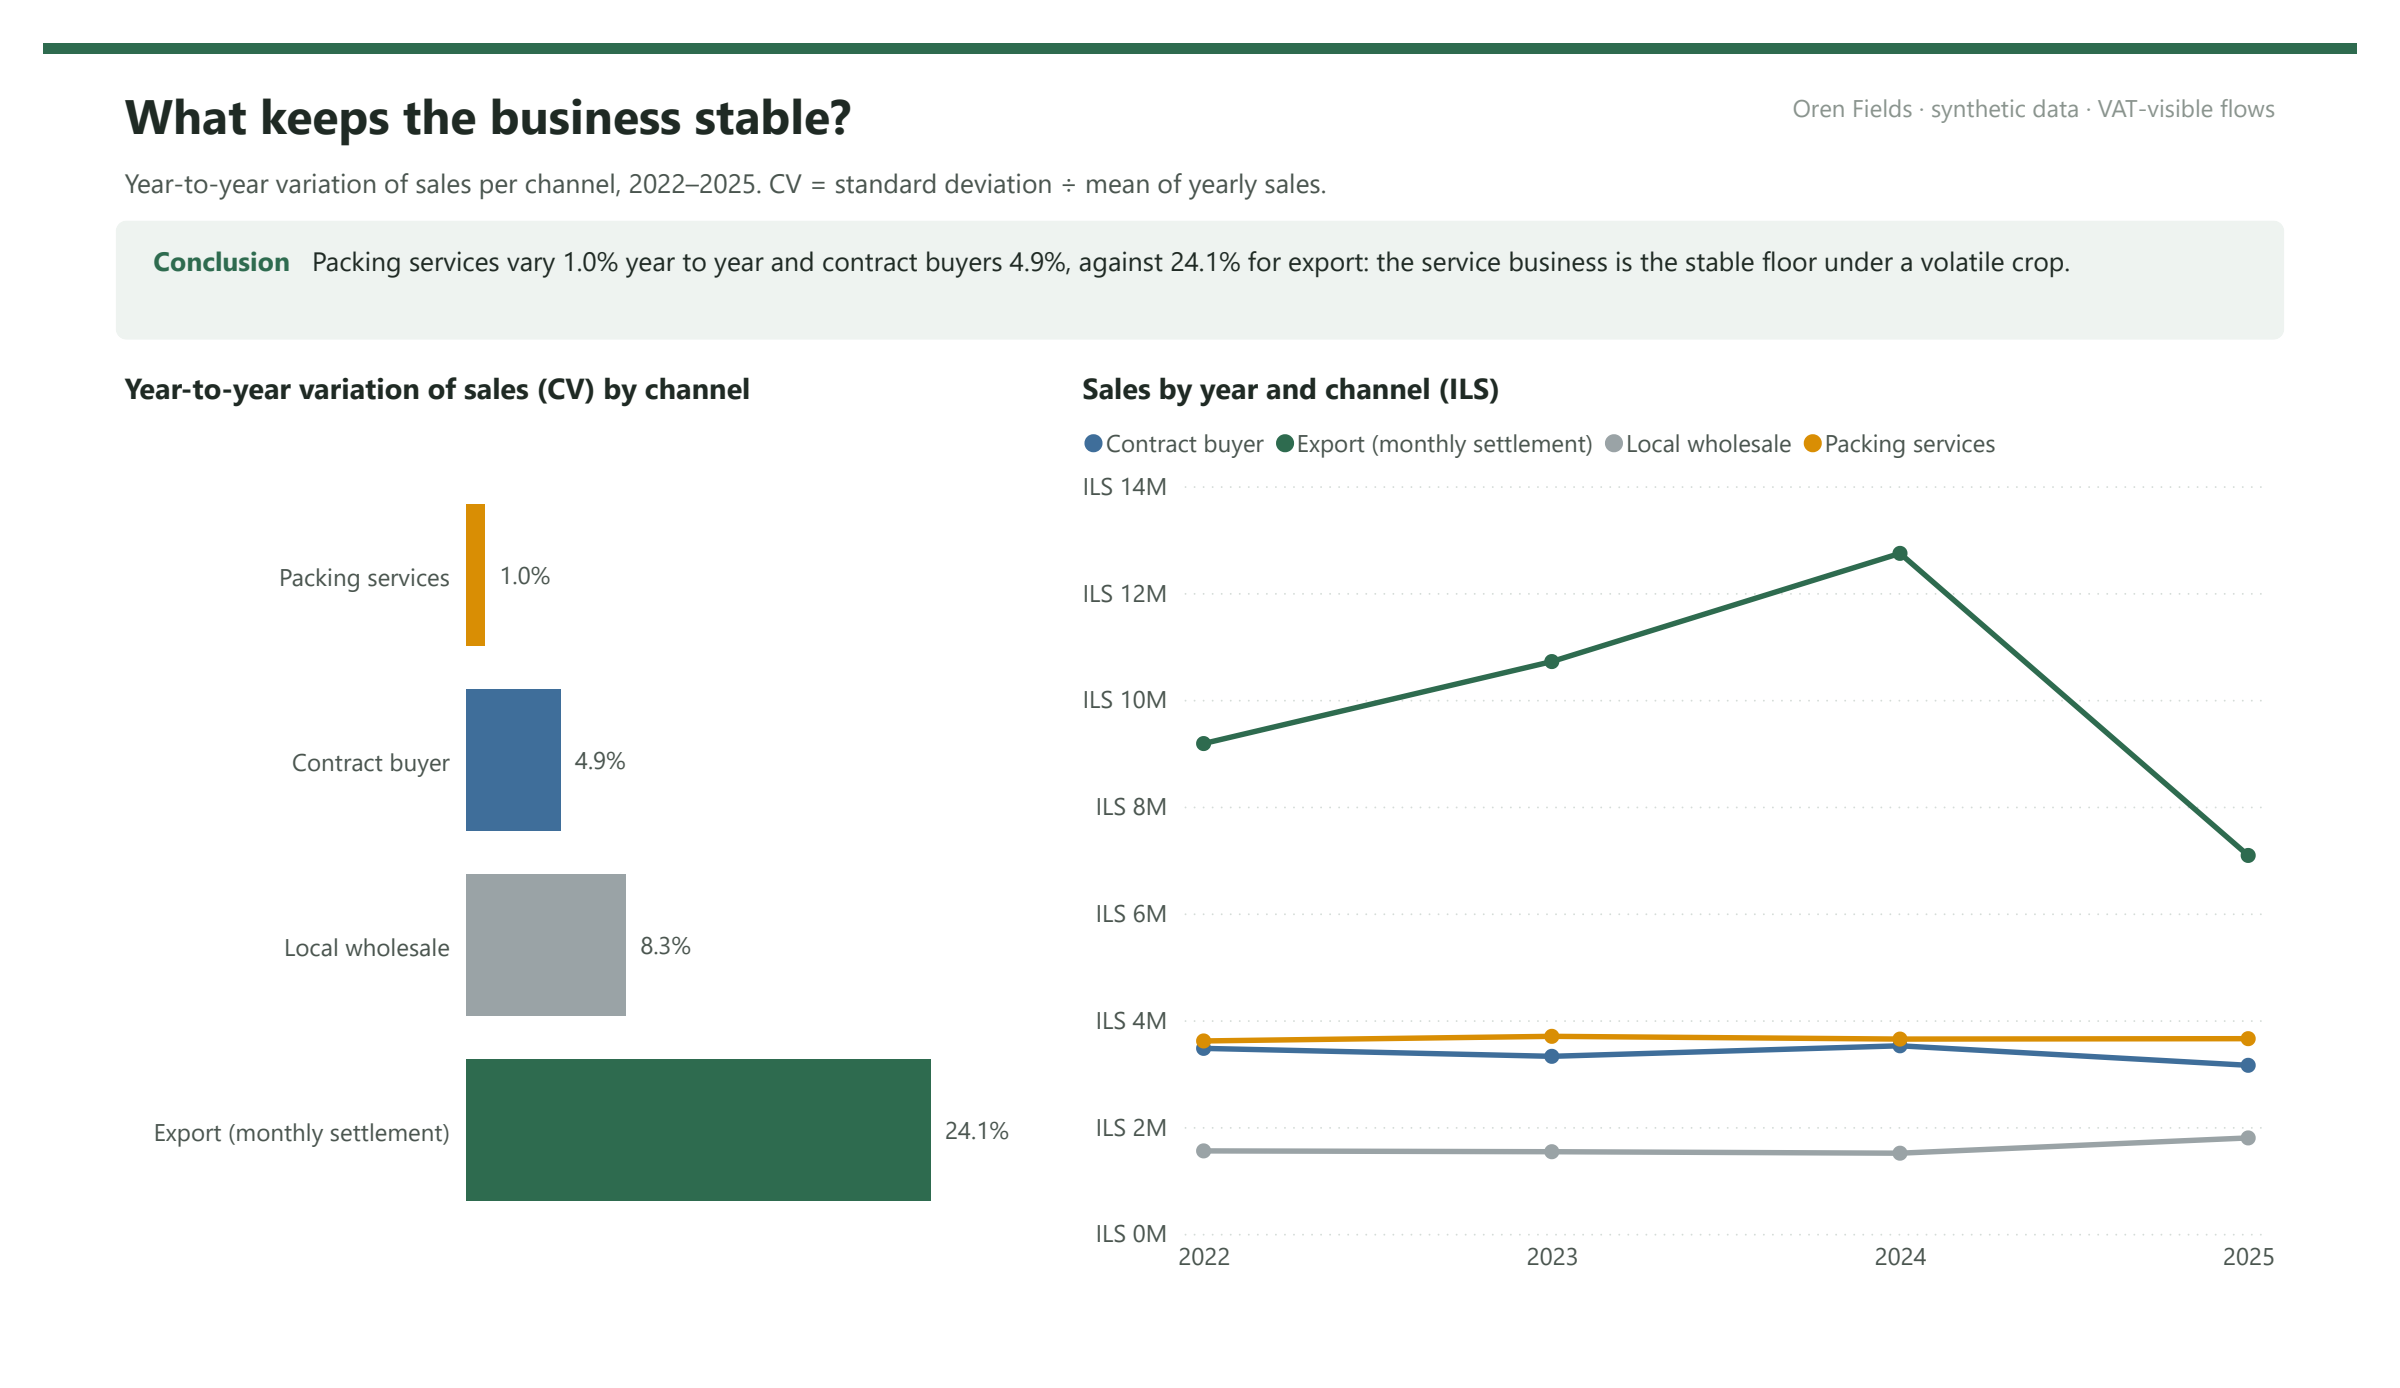

This screenshot's page, from the dashboard's own definition file:
{"tool":"powerbi","page":{"name":"How steady each channel is","canvas":[1280,720],"ordinal":3},"visuals":[{"type":"shape","box":[0,0,1280,6],"z":0},{"type":"textbox","box":[40,16,820,48],"z":1},{"type":"textbox","box":[860,22,380,34],"z":1},{"type":"textbox","box":[40,62,1200,34],"z":1},{"type":"shape","box":[40,98,1200,66],"z":1},{"type":"textbox","box":[56,105,1168,56],"z":2},{"type":"barChart","title":"Year-to-year variation of sales (CV) by channel","fields":{"Category":["dim_counterparty.channel"],"Y":["_Measures.Channel CV"]},"box":[40,180,500,510],"z":2},{"type":"lineChart","title":"Sales by year and channel (ILS)","fields":{"Category":["dim_date.year"],"Series":["dim_counterparty.channel"],"Y":["_Measures.Sales ILS"]},"box":[570,180,670,510],"z":2}]}

Visuals, with their boxes in screenshot pixels (x1, y1, x2, y2), scaled from the page's 1280x720 canvas onto the 2400x1388 screenshot:
shape: crop(0, 0, 2399, 12)
textbox: crop(75, 31, 1612, 123)
textbox: crop(1612, 42, 2325, 108)
textbox: crop(75, 120, 2325, 185)
shape: crop(75, 189, 2325, 316)
textbox: crop(105, 202, 2295, 310)
"Year-to-year variation of sales (CV) by channel" barChart: crop(75, 347, 1012, 1330)
"Sales by year and channel (ILS)" lineChart: crop(1069, 347, 2325, 1330)
